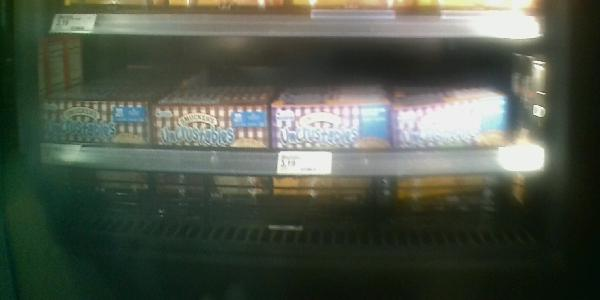icecream: (391, 96, 507, 191), (269, 105, 392, 194), (152, 104, 270, 186), (44, 101, 147, 190)
